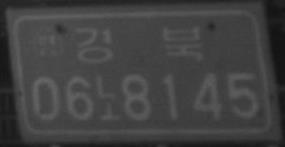0: (30, 75, 61, 122)
1: (159, 73, 185, 121)
4: (192, 72, 225, 121)
5: (226, 70, 260, 120)
6: (65, 74, 94, 121)
8: (120, 72, 152, 121)
경북_D: (73, 23, 202, 64)
노: (95, 73, 121, 120)
영: (32, 26, 67, 63)
